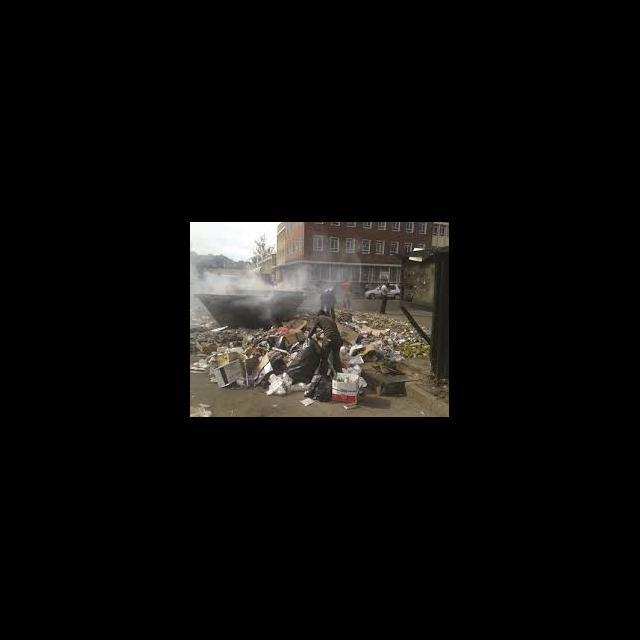Smoke: (191, 266, 349, 326)
